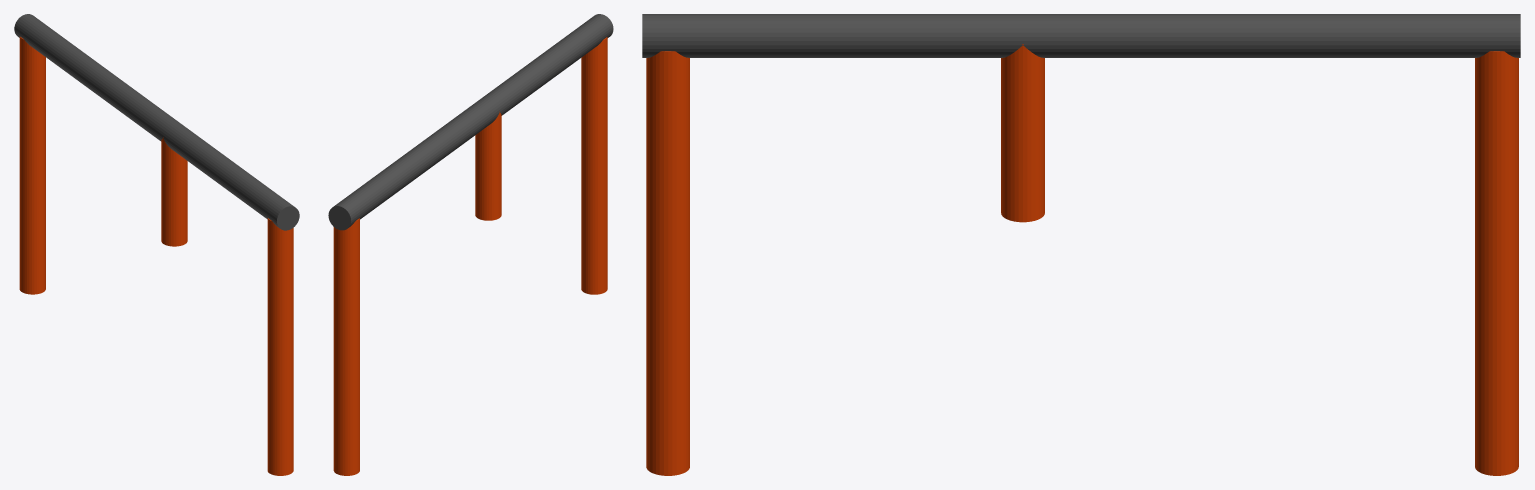
File: gate.fbx
3 renders of one model, left to right at view 1: azimuth 30°, elevation 25°; view 2: azimuth 150°, elevation 25°; view 3: azimuth 270°, elevation 25°, orthographic. The views are drawn at different scales.
Visible parts, largest first — view 1: Cylinder, Cylinder.001, Cylinder.003, Cylinder.002; view 2: Cylinder, Cylinder.003, Cylinder.001, Cylinder.002; view 3: Cylinder, Cylinder.001, Cylinder.003, Cylinder.002.
Part boxes in pixels (x1,y1,x2,y2): Cylinder: [14, 14, 299, 230]; Cylinder.001: [267, 218, 293, 475]; Cylinder.003: [19, 37, 45, 294]; Cylinder.002: [161, 137, 187, 246]; Cylinder: [328, 14, 613, 230]; Cylinder.003: [333, 218, 359, 475]; Cylinder.001: [581, 37, 607, 294]; Cylinder.002: [475, 111, 501, 220]; Cylinder: [642, 14, 1520, 57]; Cylinder.001: [646, 51, 689, 475]; Cylinder.003: [1475, 51, 1518, 475]; Cylinder.002: [1001, 44, 1044, 222].
Bounding box in the file's own units: 15.24 × 173 × 305.
